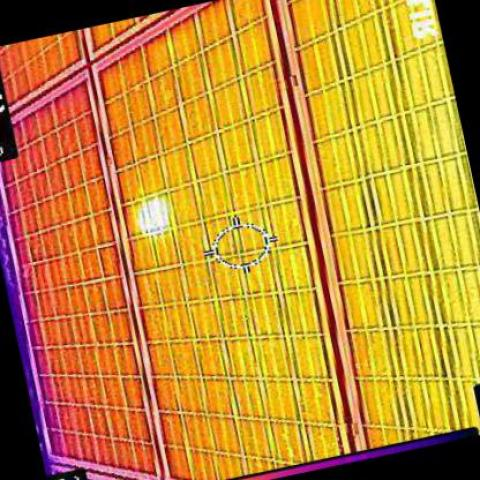fault: (137, 198, 175, 237)
